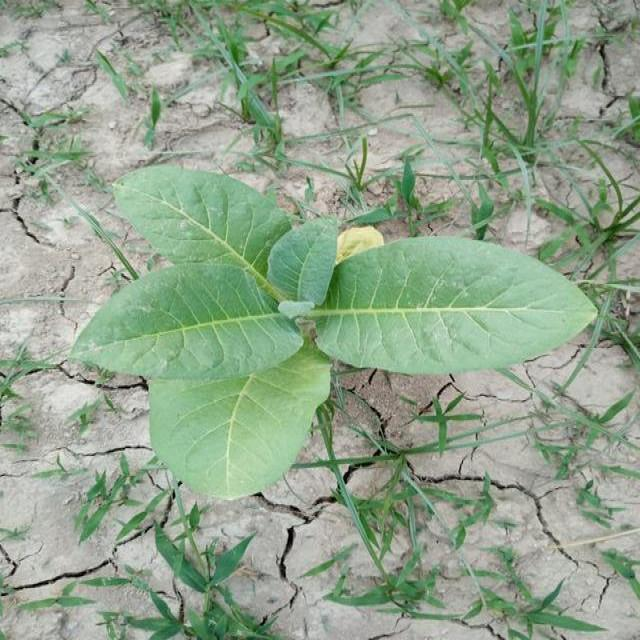crop: (94, 164, 590, 492)
